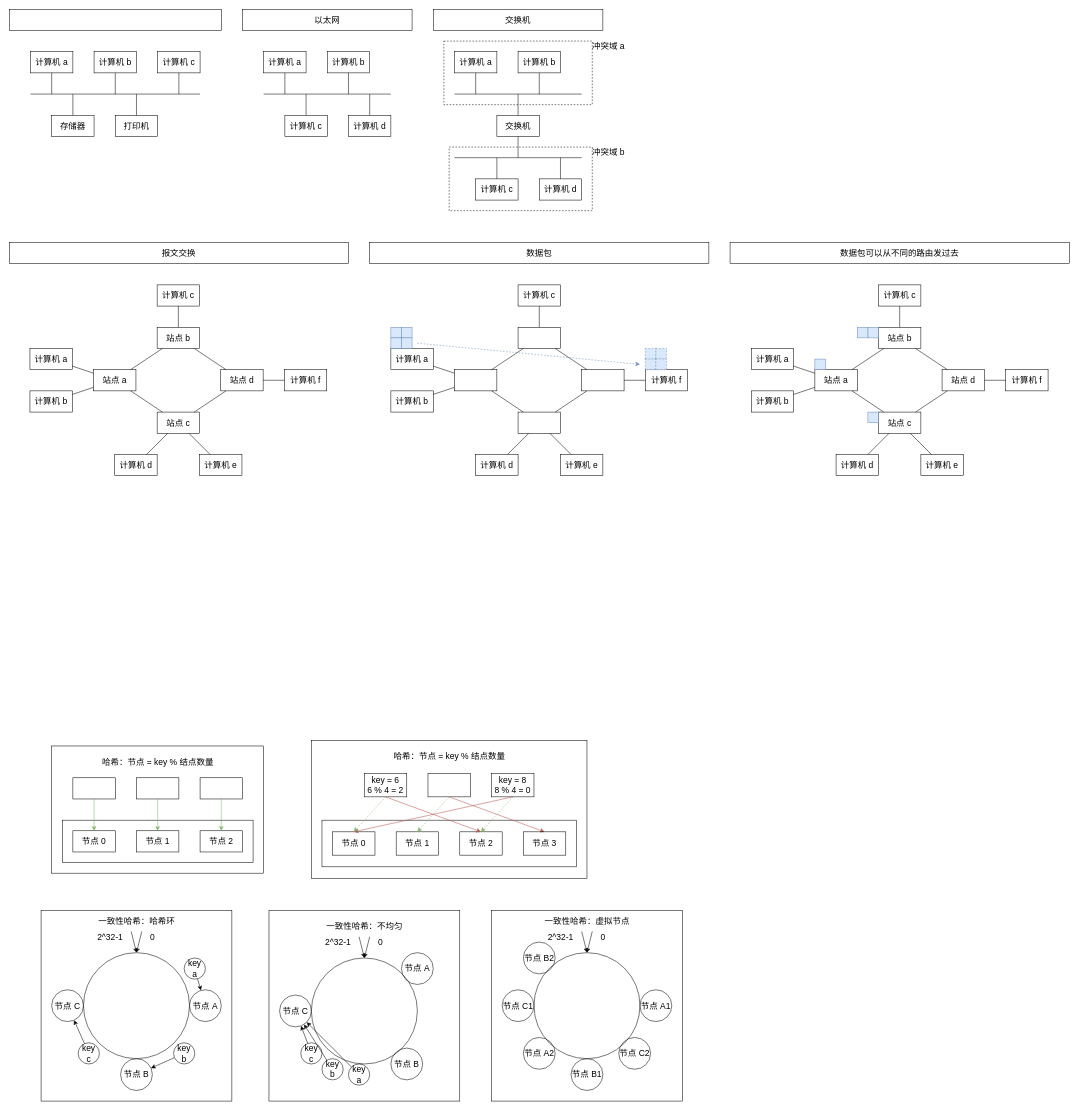
This 1079x1110 diagram has some shape labels left out. Each missing label, with the box of its shape:
key = 6 6 % 3 = 0: (72, 777, 115, 799)
key = 7 7 % 3 = 1: (136, 777, 179, 799)
key = 7 7 % 4 = 3: (427, 773, 470, 797)
key = 8 8 % 3 = 2: (200, 777, 242, 799)
共享硬件资源: (9, 9, 221, 30)
路由器 a: (454, 369, 497, 391)
路由器 b: (518, 327, 560, 348)
路由器 c: (518, 412, 560, 433)
路由器 d: (581, 369, 624, 391)
